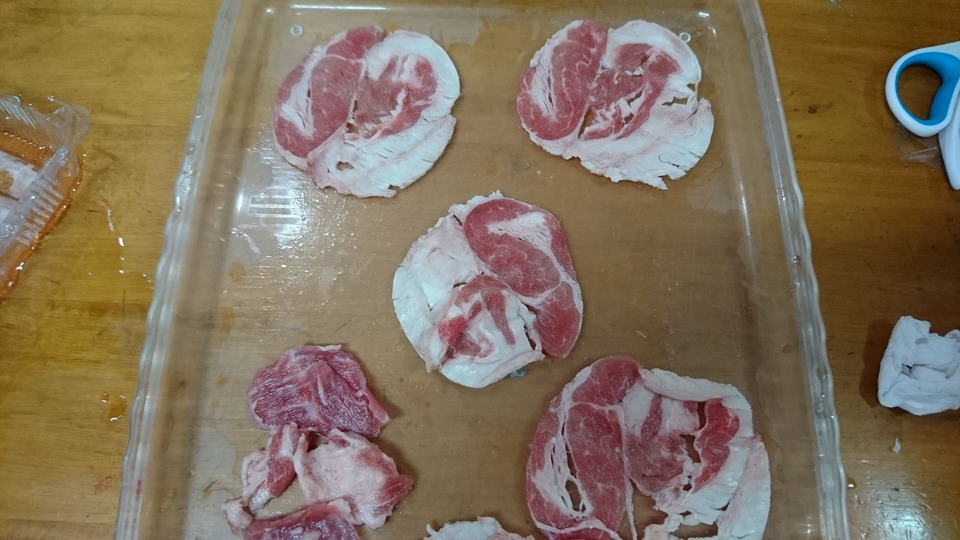restructured meat: (527, 351, 776, 540), (396, 188, 581, 395), (227, 333, 412, 540), (518, 10, 721, 197), (278, 20, 466, 209)
